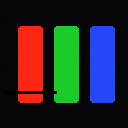3 line_h: (4, 91, 56, 93)
